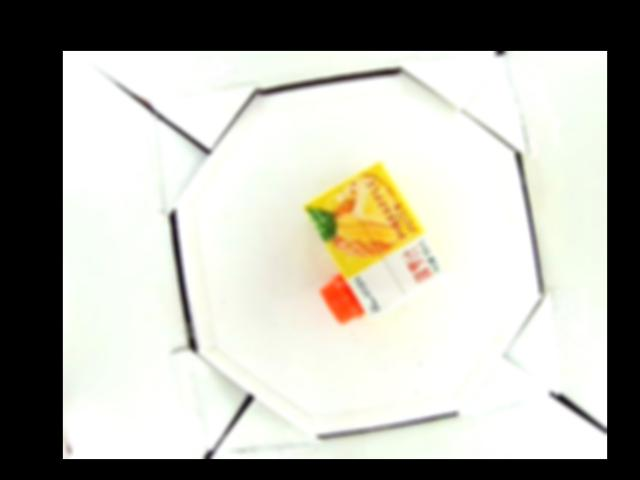Bottle: (301, 159, 448, 323)
